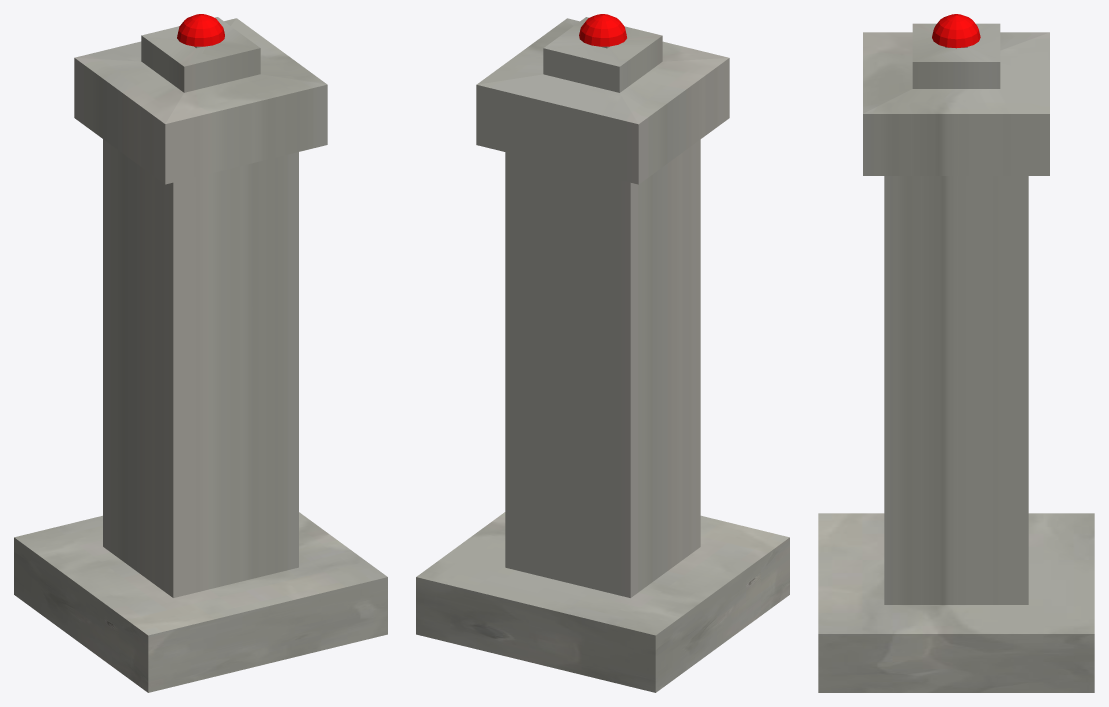
The model's file is reset button.fbx.
3 views of the same model, side by side, from view 1: azimuth 30°, elevation 25°; view 2: azimuth 150°, elevation 25°; view 3: azimuth 270°, elevation 25° (orthographic). The views are drawn at different scales.
Parts seen in each view (by area): view 1: Cube; view 2: Cube; view 3: Cube.
Part boxes in pixels (x1,y1,x2,y2): Cube: (14, 14, 387, 692); Cube: (416, 14, 789, 692); Cube: (818, 14, 1094, 692).
Size of the model in its own units: 71.6 by 171 by 69.4.
1 material, 1 textured.
